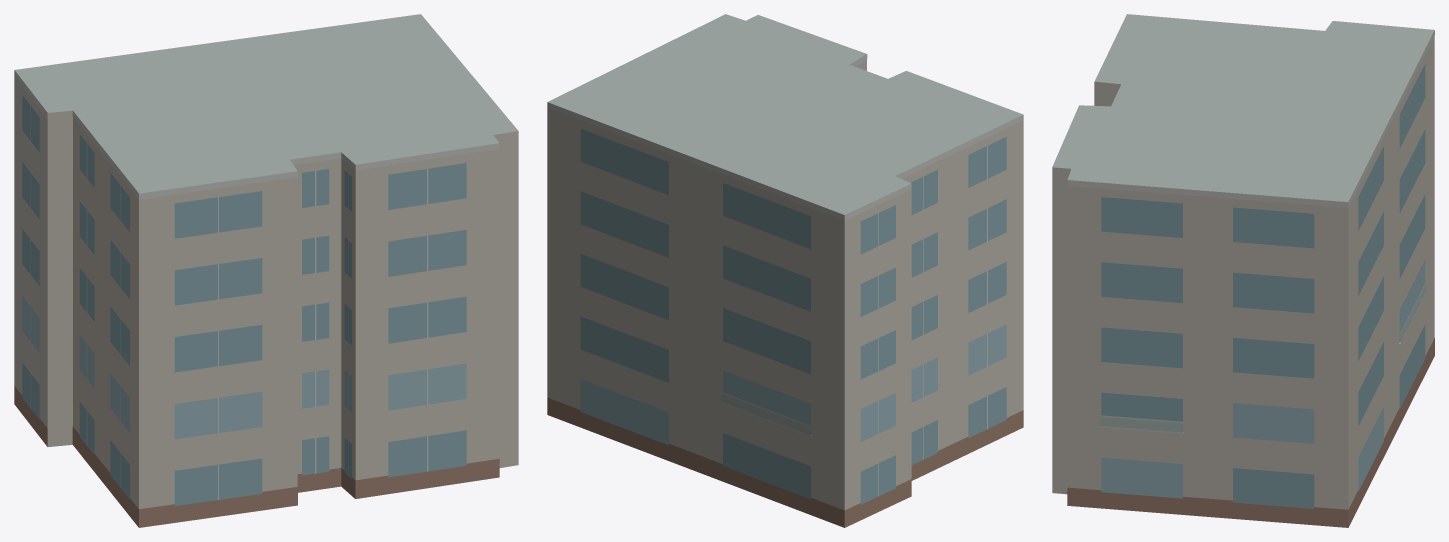
Rendered from survey-upis-32623789.glb.
3 views of the same model, side by side, from view 1: azimuth 30°, elevation 25°; view 2: azimuth 150°, elevation 25°; view 3: azimuth 270°, elevation 25° (orthographic). The views are drawn at different scales.
Visible parts, largest first — view 1: survey-upis-32623789.tmp; view 2: survey-upis-32623789.tmp; view 3: survey-upis-32623789.tmp.
Part boxes in pixels (x1,y1,x2,y2): survey-upis-32623789.tmp: (14,14,518,527); survey-upis-32623789.tmp: (547,14,1023,527); survey-upis-32623789.tmp: (1052,14,1434,527).
Size of the model in its own units: 17.1 by 13.8 by 14.7.
